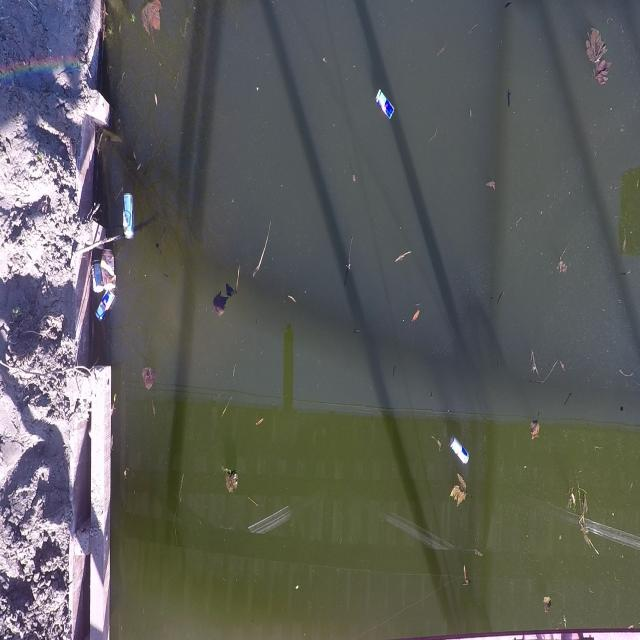Non plastique: (376, 88, 395, 119), (97, 292, 115, 320), (103, 249, 115, 291), (450, 437, 469, 463), (124, 193, 134, 238), (91, 260, 104, 292)
